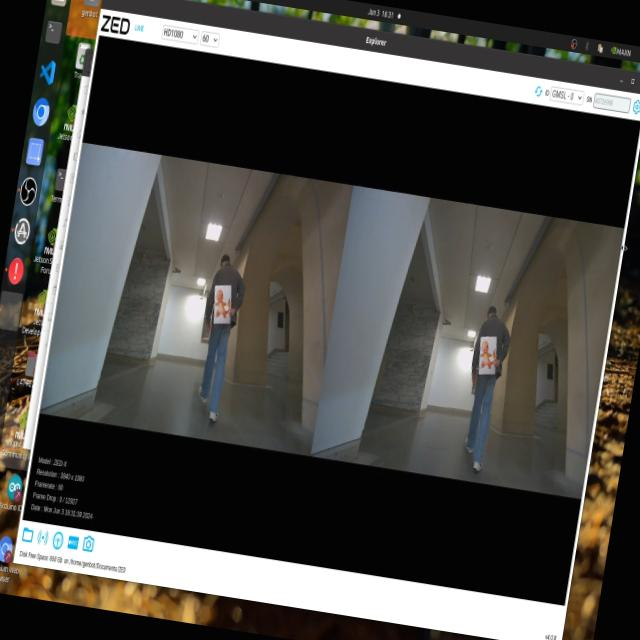red: (212, 286, 235, 328), (478, 340, 498, 382)
